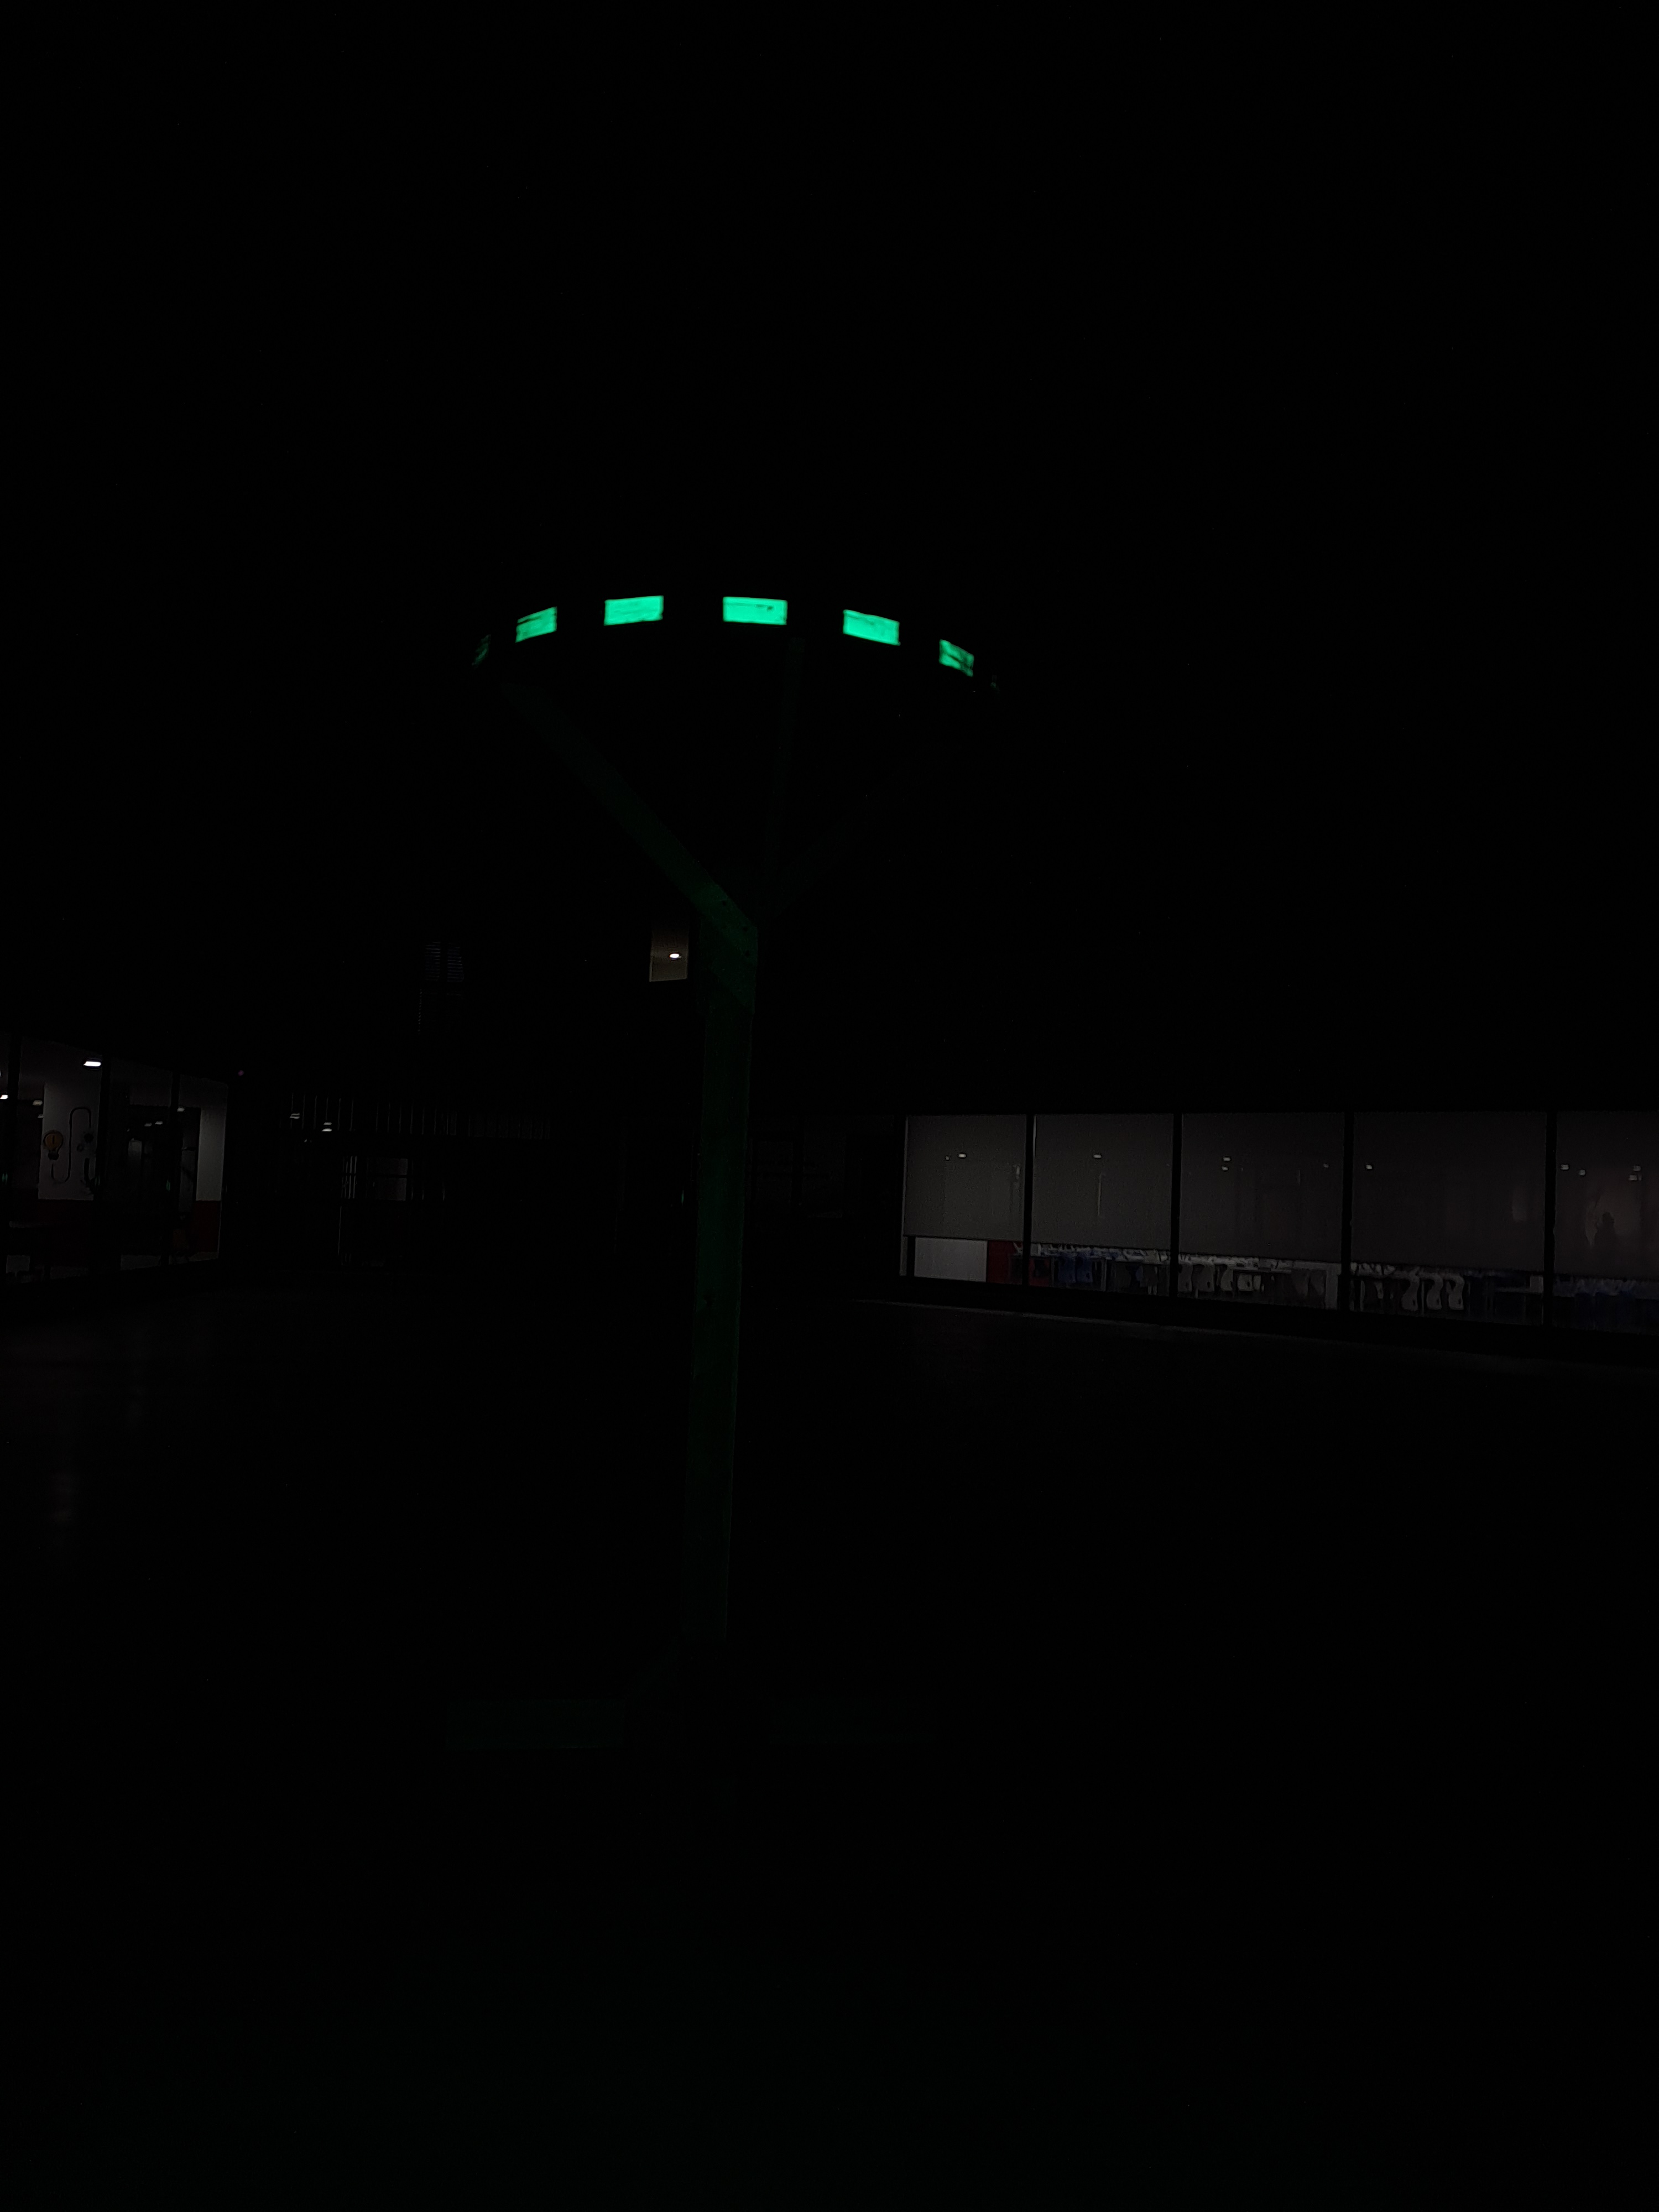hoop: (511, 589, 979, 685)
